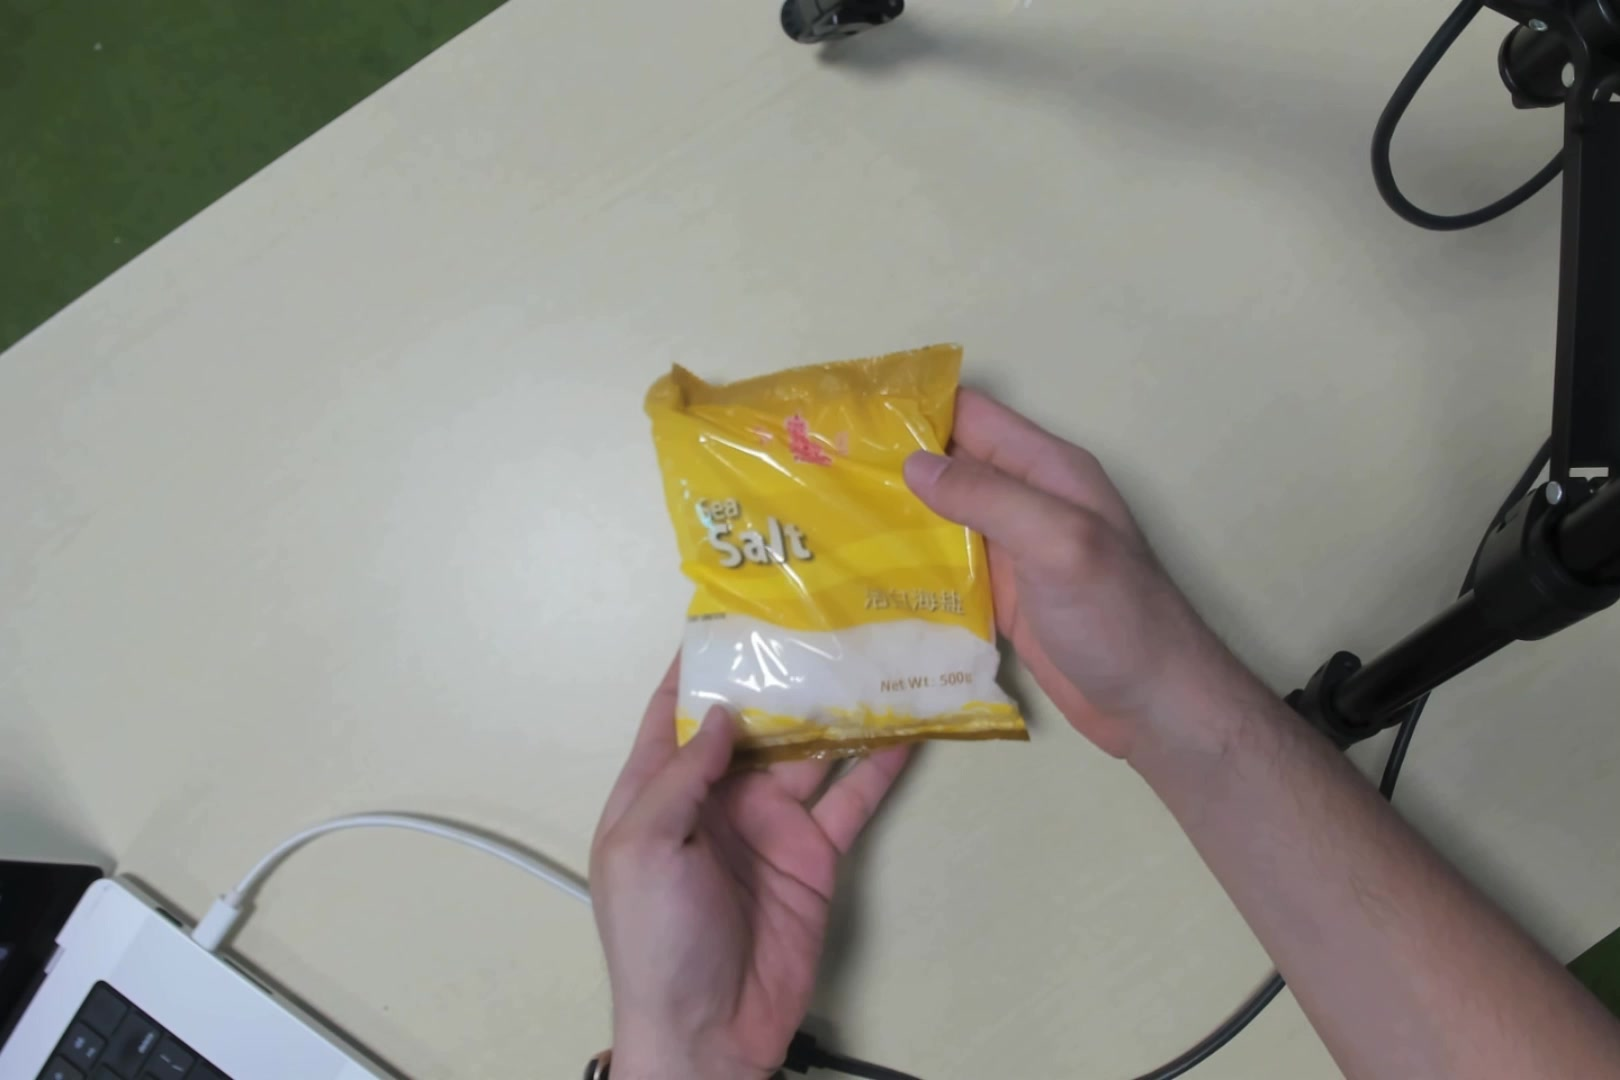Salt_500-599g_Halal_NonHealthy: (659, 350, 1002, 722)
